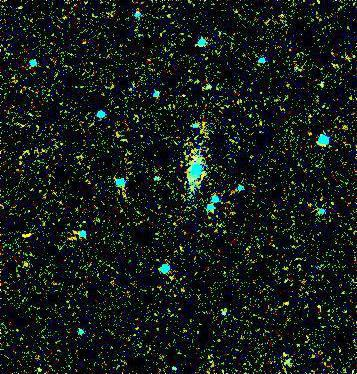star: (9, 251, 39, 281)
